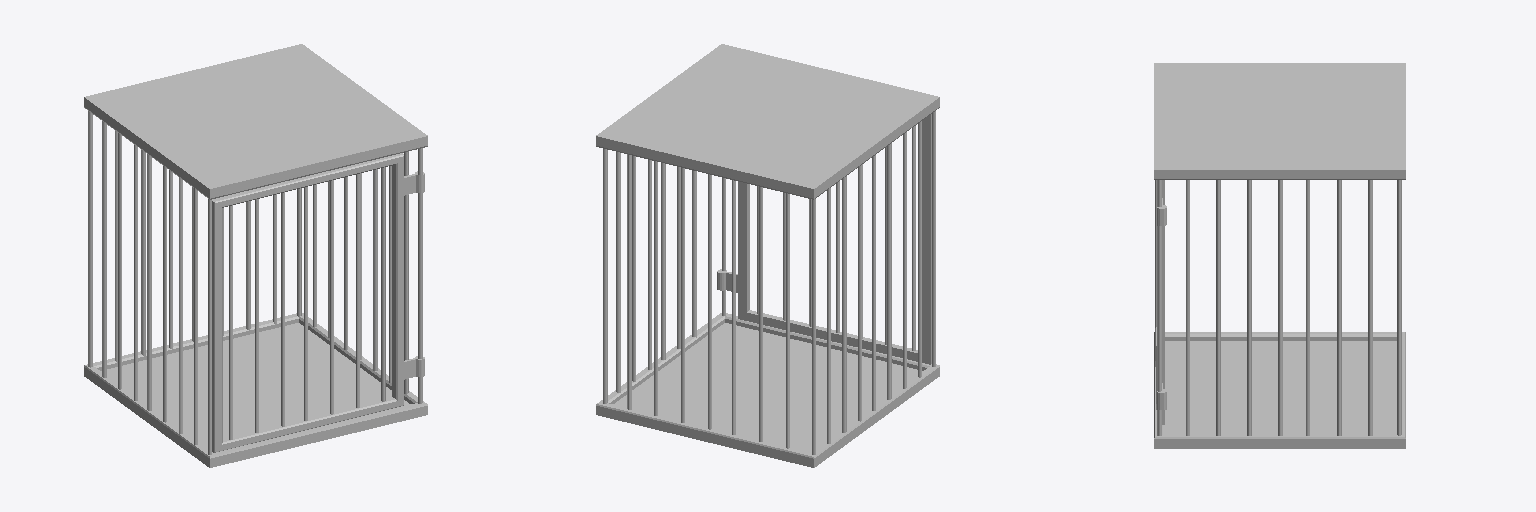
File: env2-cage.obj
The picture shows the model from 3 angles: view 1: azimuth 30°, elevation 25°; view 2: azimuth 150°, elevation 25°; view 3: azimuth 270°, elevation 25°; orthographic projection.
Parts seen in each view (by area): view 1: cage_Cube.001, c_door_Cube.001; view 2: cage_Cube.001, c_door_Cube.001; view 3: cage_Cube.001, c_door_Cube.001.
Part boxes in pixels (x1,y1,x2,y2): cage_Cube.001: (84, 44, 427, 467); c_door_Cube.001: (212, 153, 424, 452); cage_Cube.001: (596, 44, 939, 467); c_door_Cube.001: (717, 114, 931, 364); cage_Cube.001: (1154, 63, 1405, 448); c_door_Cube.001: (1155, 180, 1166, 424).
Size of the model in its own units: 9.78 by 11.95 by 9.78.